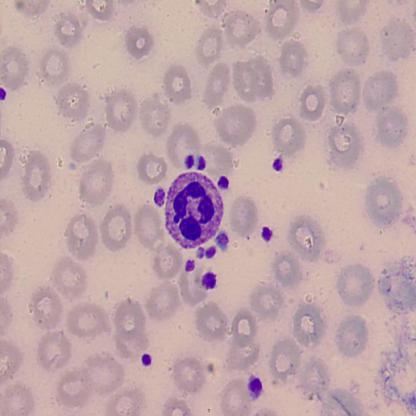Segmented neutrophil: (163, 168, 225, 251)
